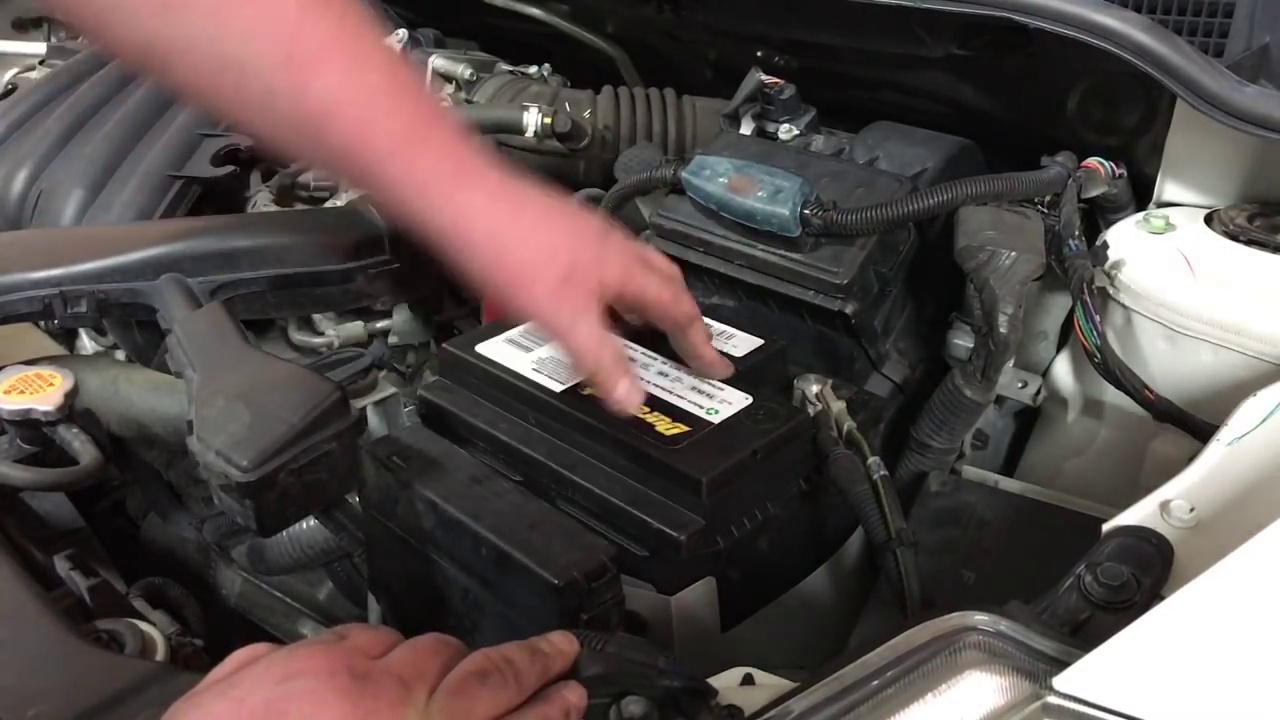battery: (441, 283, 841, 481)
